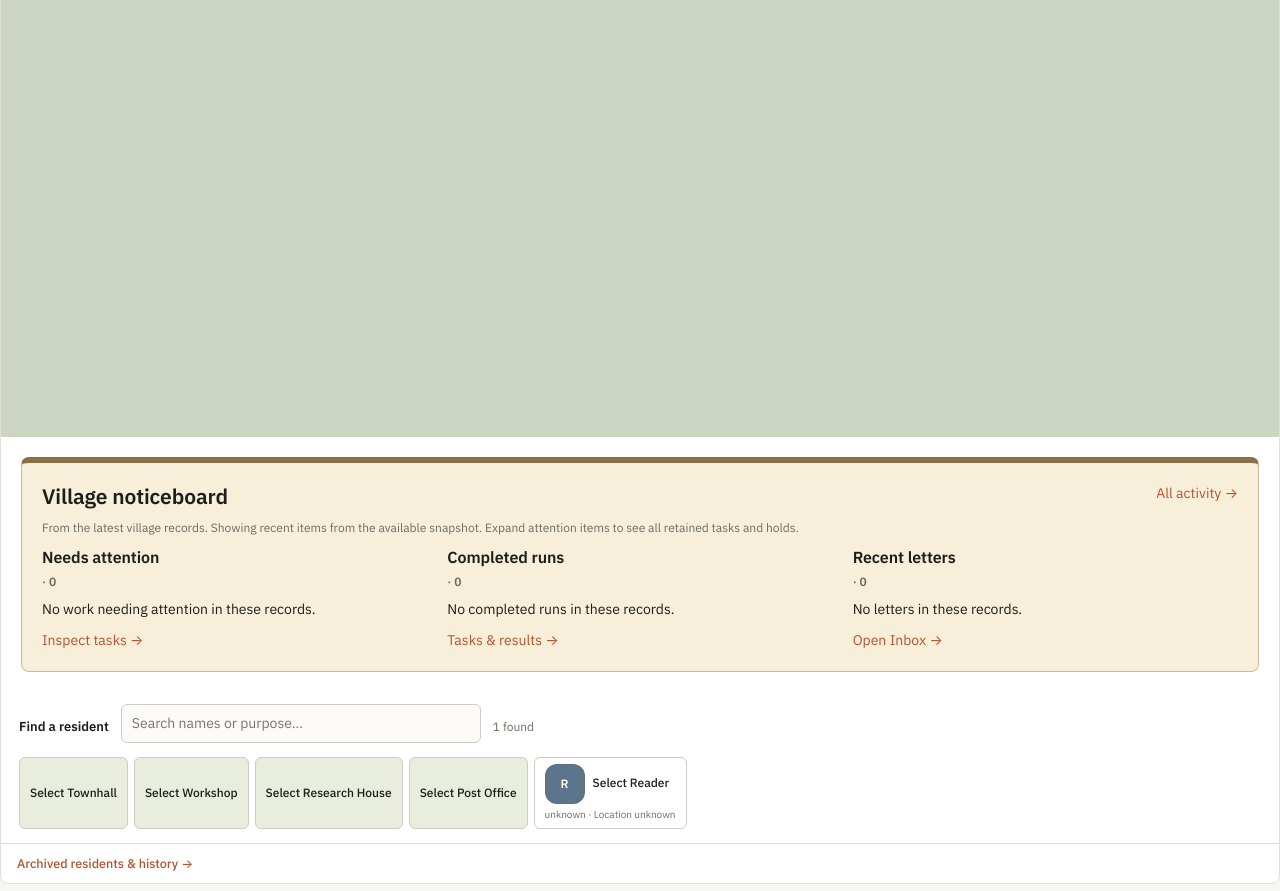
Test: keeps Townhall records and return usable after initial graphics failure
This screenshot has width=1280, height=891.
(page scrolled)
Click the button "Select Townhall" at (73, 793), box x1=19 y1=757 x2=128 y2=829
(page scrolled)
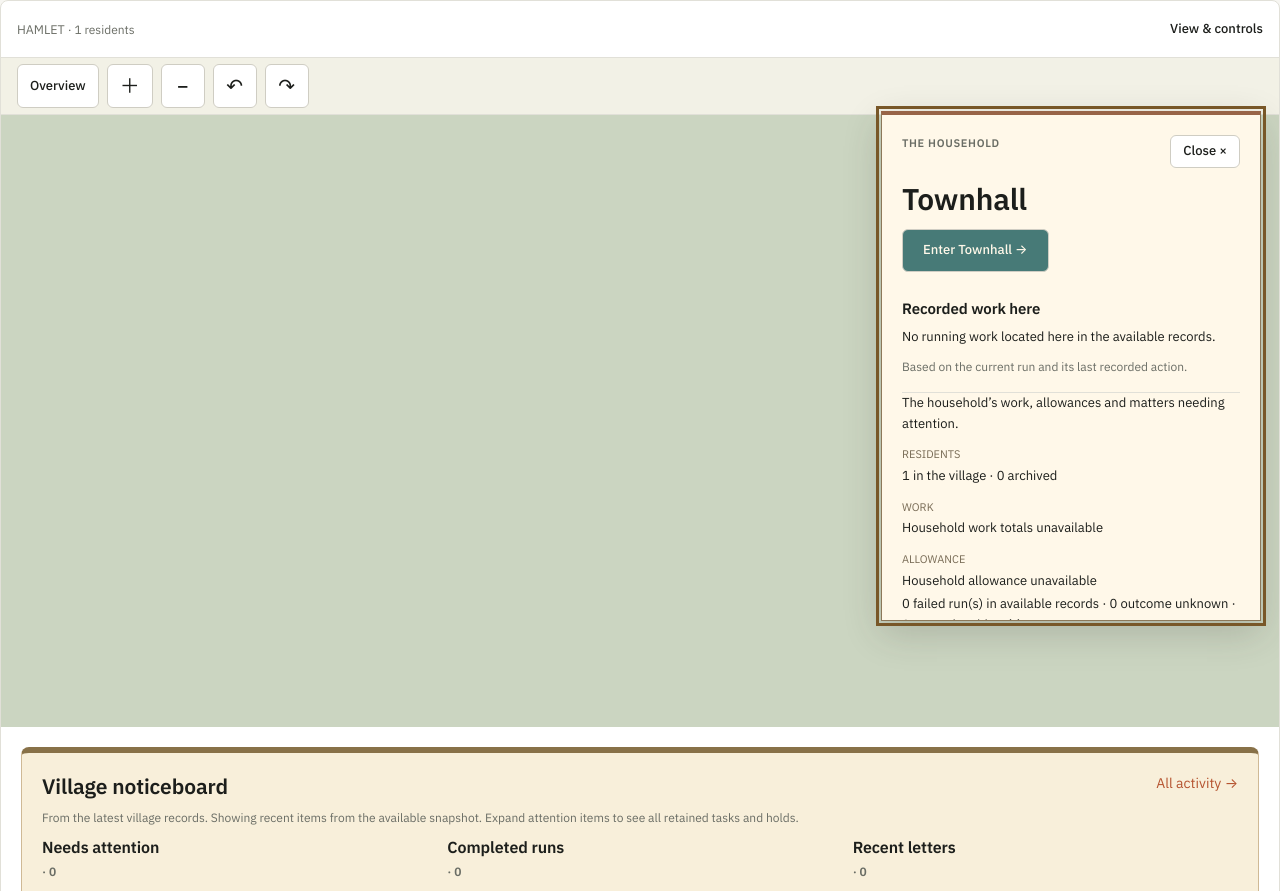
Click the button "Enter Townhall →" at (975, 251), box x1=902 y1=229 x2=1048 y2=272
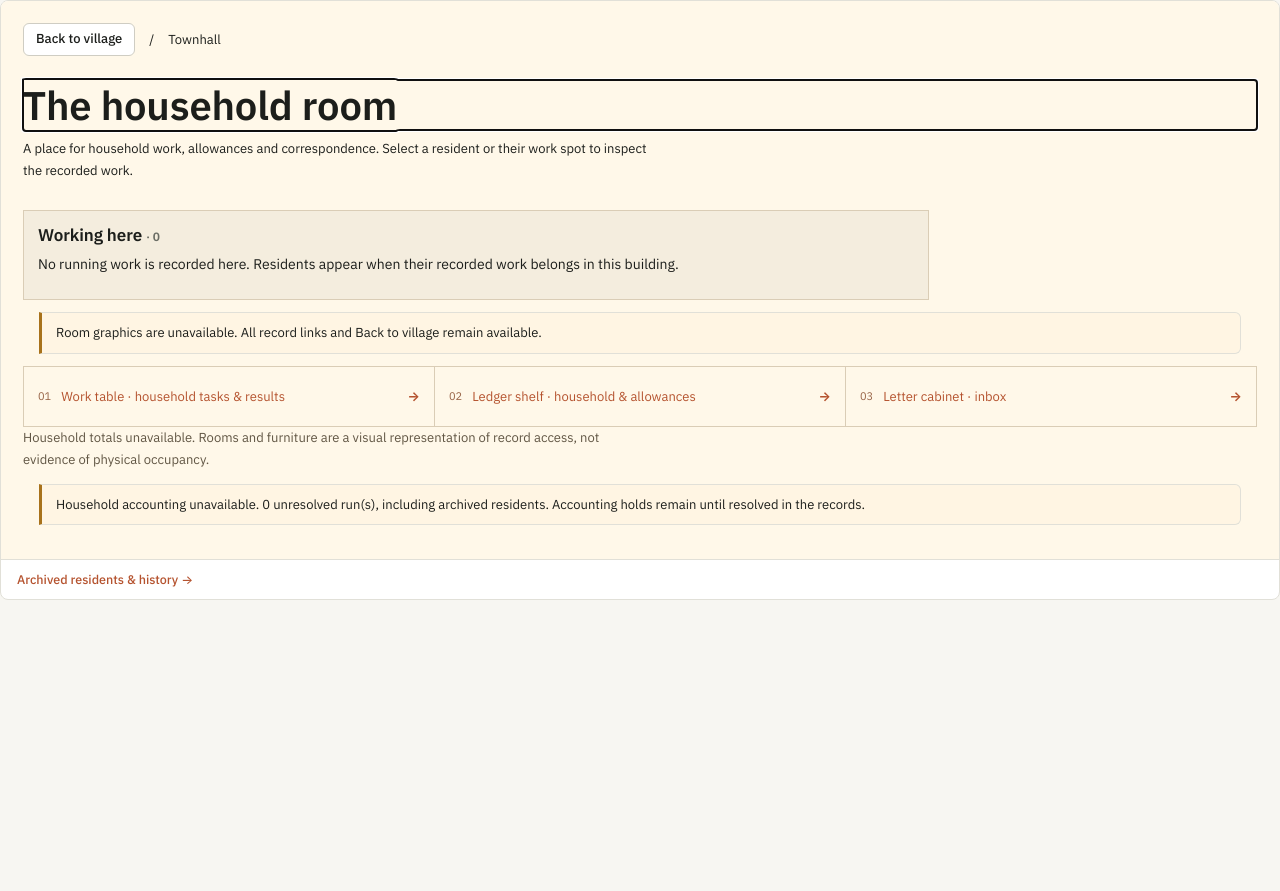
Check: the text "Room graphics are unavailable" is shown, box x1=56 y1=324 x2=542 y2=341
Click the button "Back to village" at (79, 39), box x1=23 y1=23 x2=135 y2=56
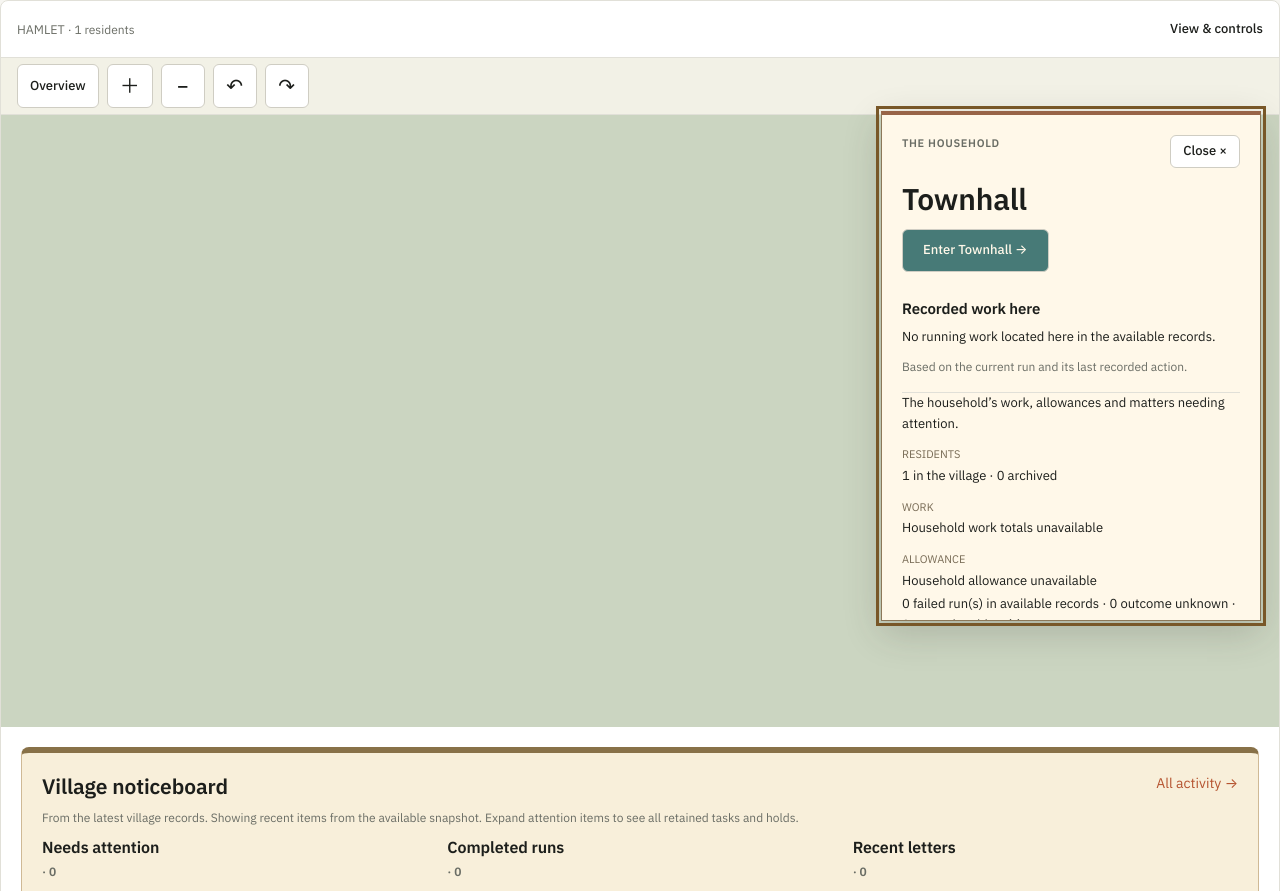
Check: the dialog named "Townhall household" is shown, box x1=881 y1=111 x2=1261 y2=621
